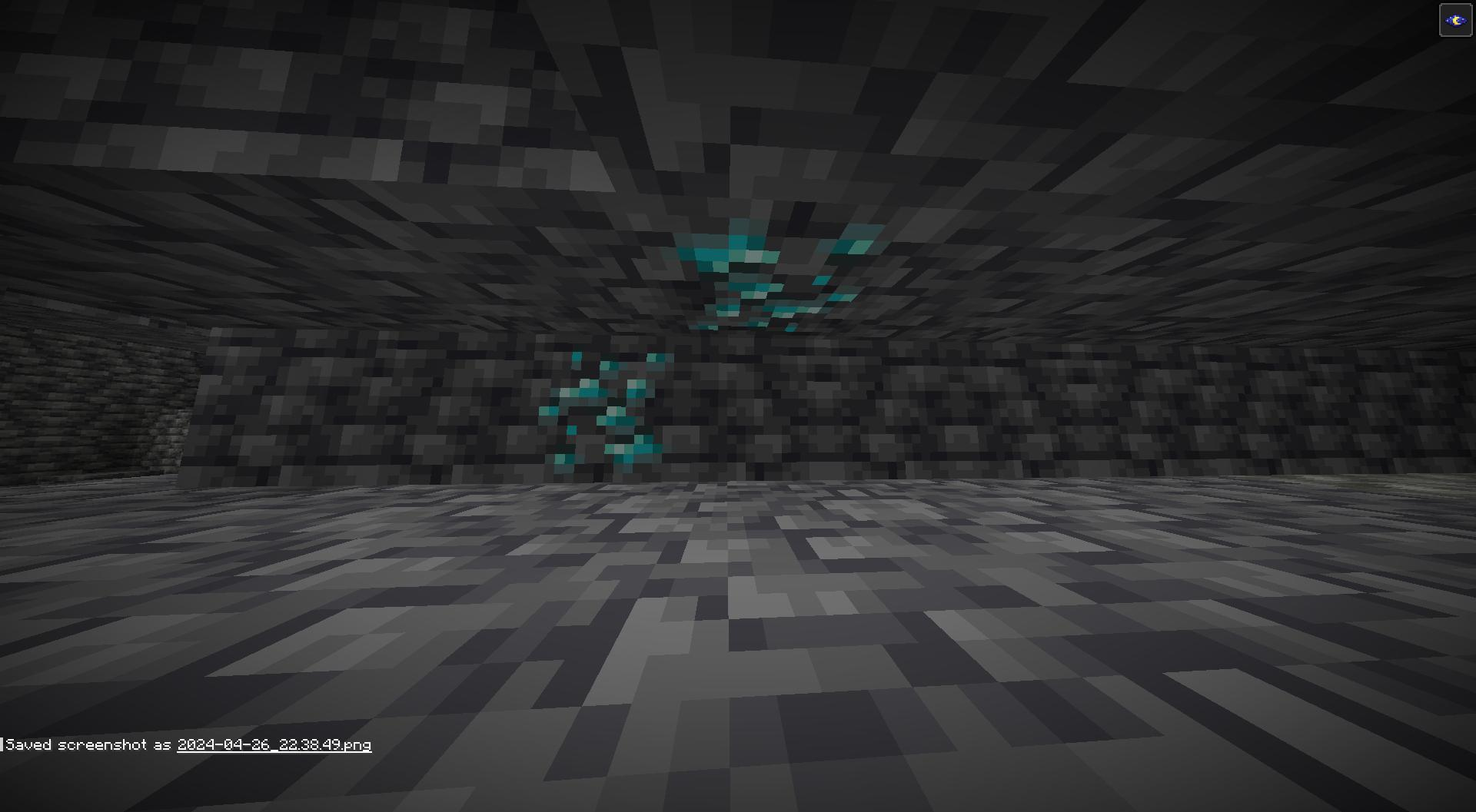diamond ore: (670, 214, 883, 336), (532, 348, 670, 479)
